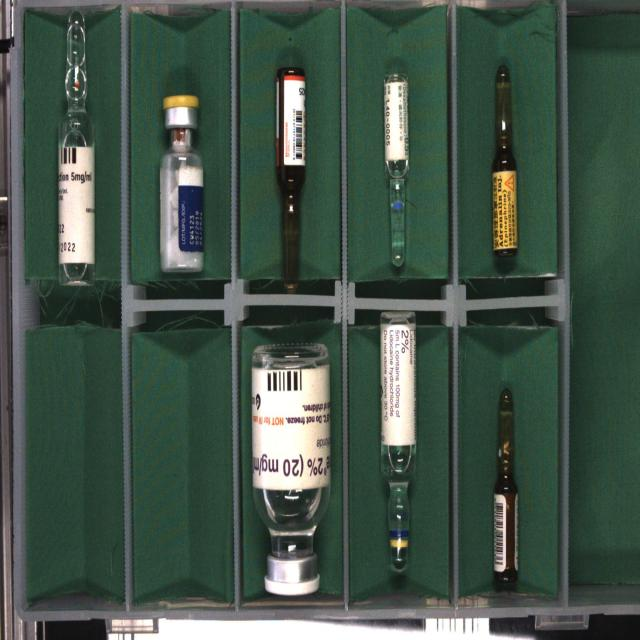Vials: (251, 343, 330, 595), (160, 95, 204, 272)
